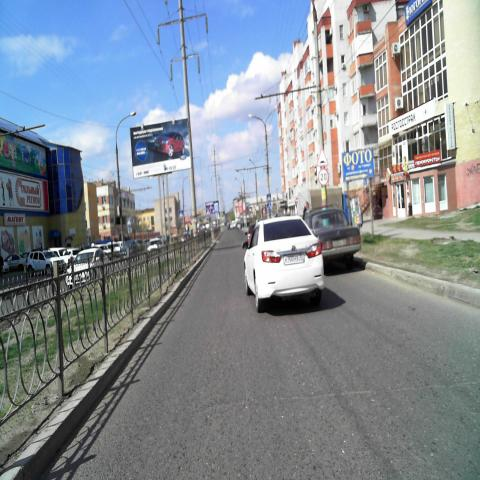1_17: (316, 147, 328, 167)
